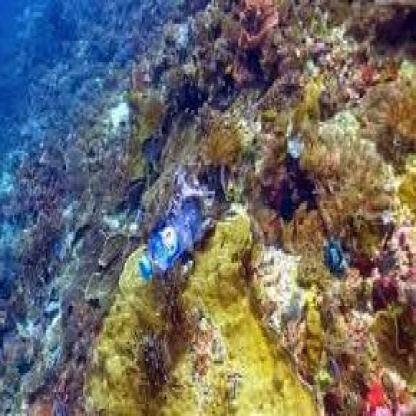pbottle: (124, 189, 210, 282)
